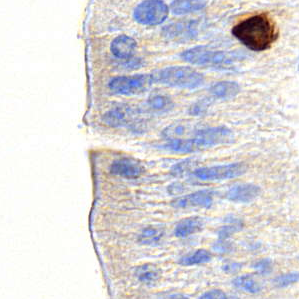Lymphocyte: (231, 13, 278, 52)
